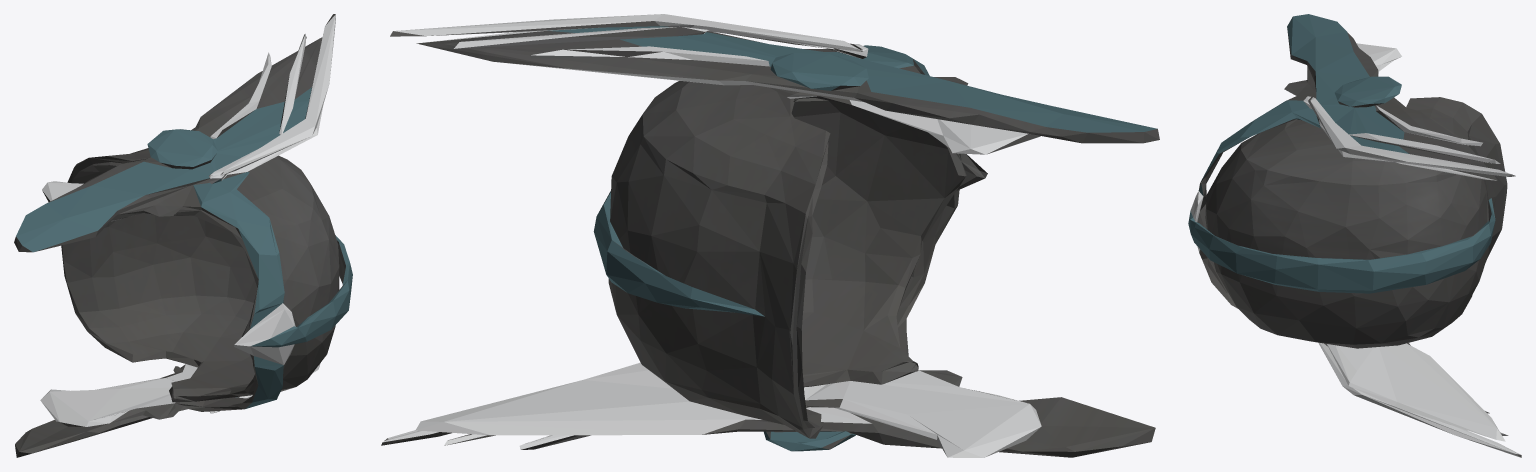
The model's file is ThorHelmetFemale.fbx.
3 views of the same model, side by side, from view 1: azimuth 30°, elevation 25°; view 2: azimuth 150°, elevation 25°; view 3: azimuth 270°, elevation 25° (orthographic). The views are drawn at different scales.
Visible parts, largest first — view 1: Thor_Ragnarok; view 2: Thor_Ragnarok; view 3: Thor_Ragnarok.
Boxes of the visible parts, x1,y1,x2,y2 form: Thor_Ragnarok: (14, 14, 352, 457); Thor_Ragnarok: (381, 14, 1159, 457); Thor_Ragnarok: (1188, 14, 1521, 457).
Size of the model in its own units: 0.2494 by 0.1592 by 0.1704.
